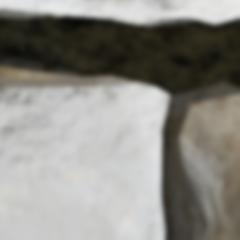brick: (0, 77, 166, 239), (0, 0, 229, 17)
crack: (0, 0, 239, 239)
